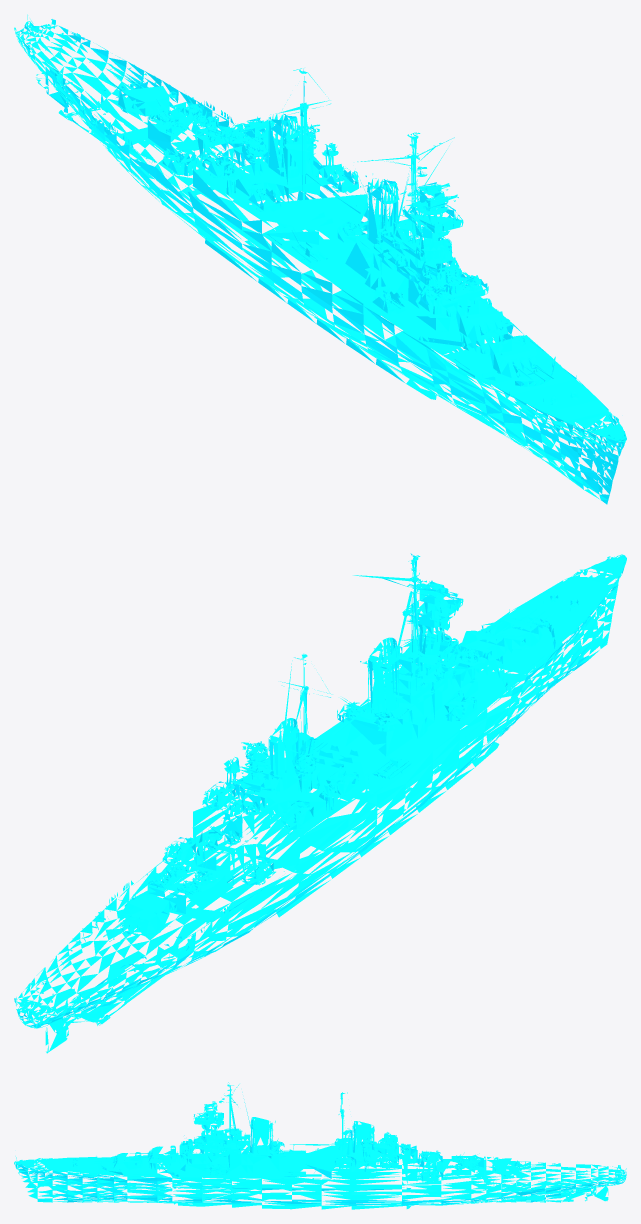
File: Bagration.glb
The picture shows the model from 3 angles, top to bottom: view 1: azimuth 30°, elevation 25°; view 2: azimuth 150°, elevation 25°; view 3: azimuth 270°, elevation 25°; orthographic projection. The views are drawn at different scales.
Bounding box in the file's own units: 1.54 × 2.99 × 14.01.
